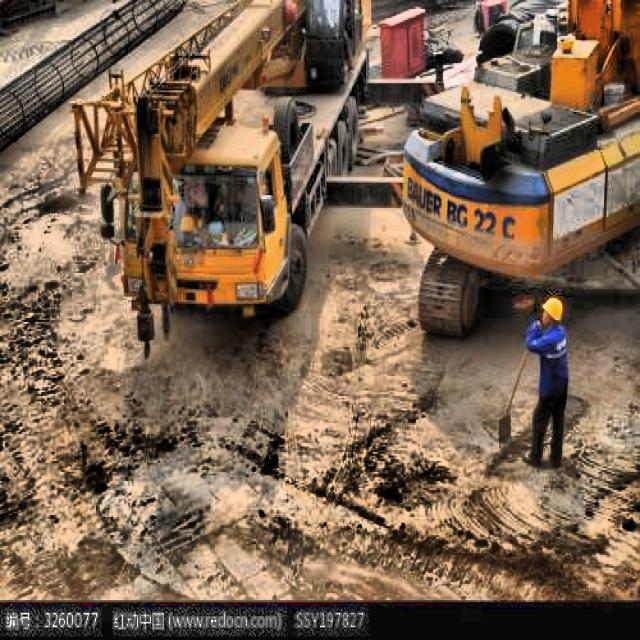helmet: (539, 289, 564, 333)
